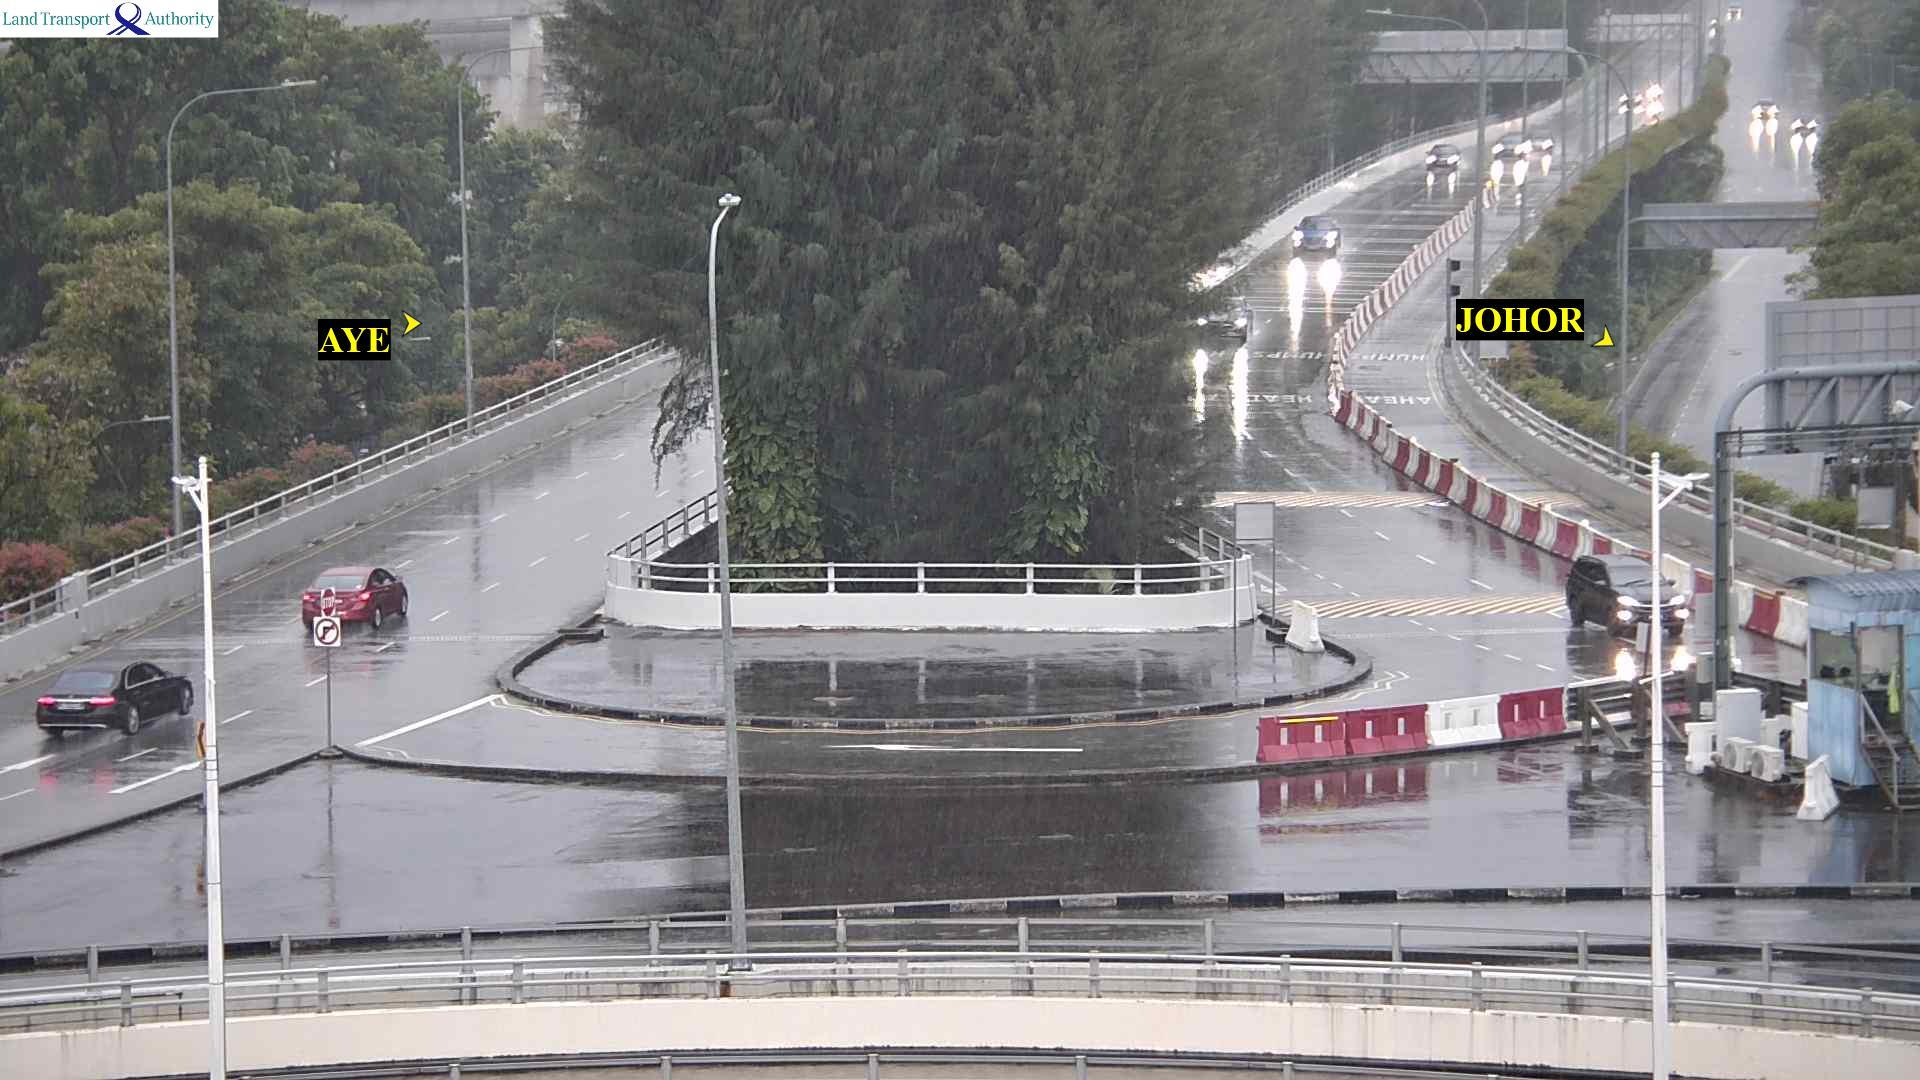vehicle-secondlink-johor: (1573, 551, 1689, 637), (1193, 290, 1254, 340), (1291, 215, 1349, 257), (1422, 142, 1461, 170), (1494, 132, 1526, 154), (1524, 132, 1553, 156)
vehicle-secondlink-singapore: (36, 662, 186, 732), (301, 566, 409, 638)
